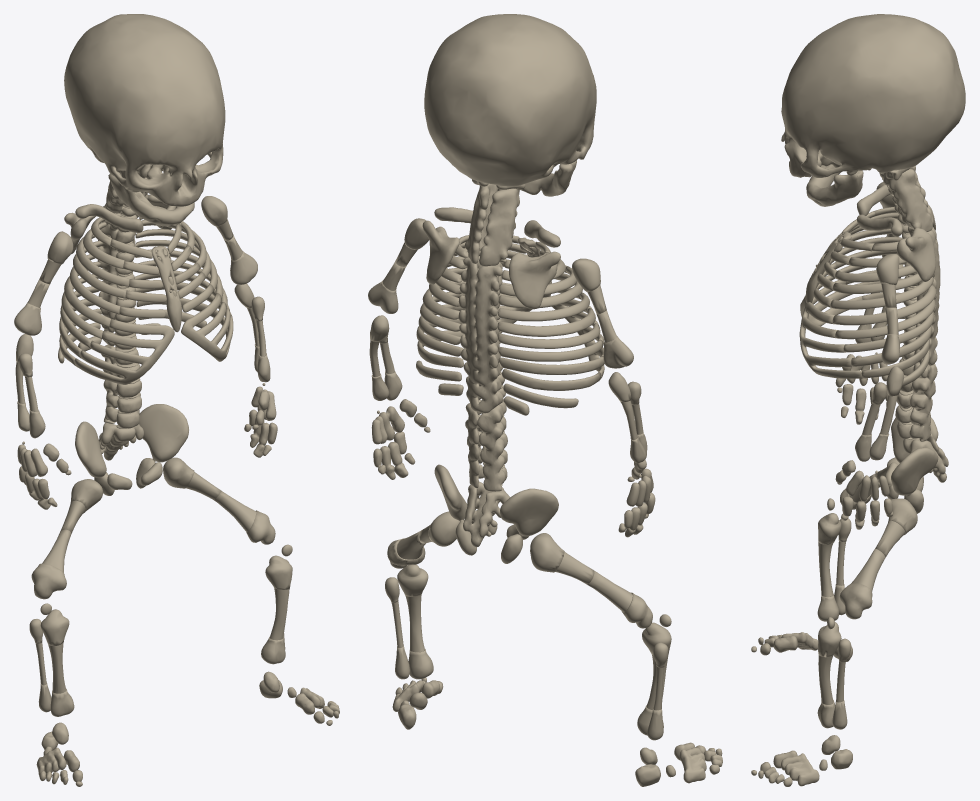
The model's file is pediatric_neonate_female.skeletal.LOD0.glb.
3 renders of one model, left to right at view 1: azimuth 30°, elevation 25°; view 2: azimuth 150°, elevation 25°; view 3: azimuth 270°, elevation 25°, orthographic. The views are drawn at different scales.
Parts seen in each view (by area): view 1: PEDIATRIC.NEONATE.FEMALE.SKELETAL.CARTILAGE_TRUNK, PEDIATRIC.NEONATE.FEMALE.SKELETAL.CARTILAGE_HEAD, PEDIATRIC.NEONATE.FEMALE.SKELETAL.CARTILAGE_LEGS, PEDIATRIC.NEONATE.FEMALE.SKELETAL.CARTILAGE_ARMS, PEDIATRIC.NEONATE.FEMALE.SKELETAL.FEMORA_LOWER_CORTICAL, PEDIATRIC.NEONATE.FEMALE.SKELETAL.TIBIAE_CORTICAL, PEDIATRIC.NEONATE.FEMALE.SKELETAL.FEMORA_UPPER_CORTICAL, PEDIATRIC.NEONATE.FEMALE.SKELETAL.HUMERI_LOWER_CORTICAL; view 2: PEDIATRIC.NEONATE.FEMALE.SKELETAL.CARTILAGE_TRUNK, PEDIATRIC.NEONATE.FEMALE.SKELETAL.CARTILAGE_HEAD, PEDIATRIC.NEONATE.FEMALE.SKELETAL.CARTILAGE_LEGS, PEDIATRIC.NEONATE.FEMALE.SKELETAL.CARTILAGE_ARMS, PEDIATRIC.NEONATE.FEMALE.SKELETAL.FEMORA_LOWER_CORTICAL, PEDIATRIC.NEONATE.FEMALE.SKELETAL.TIBIAE_CORTICAL, PEDIATRIC.NEONATE.FEMALE.SKELETAL.FEMORA_UPPER_CORTICAL, PEDIATRIC.NEONATE.FEMALE.SKELETAL.HUMERI_LOWER_CORTICAL, PEDIATRIC.NEONATE.FEMALE.SKELETAL.FIBULAE_CORTICAL, PEDIATRIC.NEONATE.FEMALE.SKELETAL.ULNAE_CORTICAL, PEDIATRIC.NEONATE.FEMALE.SKELETAL.HUMERI_UPPER_CORTICAL; view 3: PEDIATRIC.NEONATE.FEMALE.SKELETAL.CARTILAGE_HEAD, PEDIATRIC.NEONATE.FEMALE.SKELETAL.CARTILAGE_TRUNK, PEDIATRIC.NEONATE.FEMALE.SKELETAL.CARTILAGE_LEGS, PEDIATRIC.NEONATE.FEMALE.SKELETAL.CARTILAGE_ARMS, PEDIATRIC.NEONATE.FEMALE.SKELETAL.TIBIAE_CORTICAL, PEDIATRIC.NEONATE.FEMALE.SKELETAL.FEMORA_LOWER_CORTICAL, PEDIATRIC.NEONATE.FEMALE.SKELETAL.FEMORA_UPPER_CORTICAL, PEDIATRIC.NEONATE.FEMALE.SKELETAL.FIBULAE_CORTICAL, PEDIATRIC.NEONATE.FEMALE.SKELETAL.ULNAE_CORTICAL.
Boxes of the visible parts, x1,y1,x2,y2 form: PEDIATRIC.NEONATE.FEMALE.SKELETAL.CARTILAGE_TRUNK: (58,170,233,495); PEDIATRIC.NEONATE.FEMALE.SKELETAL.CARTILAGE_HEAD: (64,14,225,226); PEDIATRIC.NEONATE.FEMALE.SKELETAL.CARTILAGE_LEGS: (29,457,339,786); PEDIATRIC.NEONATE.FEMALE.SKELETAL.CARTILAGE_ARMS: (14,196,277,509); PEDIATRIC.NEONATE.FEMALE.SKELETAL.FEMORA_LOWER_CORTICAL: (42,491,256,572); PEDIATRIC.NEONATE.FEMALE.SKELETAL.TIBIAE_CORTICAL: (48,588,289,693); PEDIATRIC.NEONATE.FEMALE.SKELETAL.FEMORA_UPPER_CORTICAL: (60,472,221,533); PEDIATRIC.NEONATE.FEMALE.SKELETAL.HUMERI_LOWER_CORTICAL: (27,234,242,307); PEDIATRIC.NEONATE.FEMALE.SKELETAL.CARTILAGE_TRUNK: (416,179,604,563); PEDIATRIC.NEONATE.FEMALE.SKELETAL.CARTILAGE_HEAD: (424,14,596,196); PEDIATRIC.NEONATE.FEMALE.SKELETAL.CARTILAGE_LEGS: (385,511,722,786); PEDIATRIC.NEONATE.FEMALE.SKELETAL.CARTILAGE_ARMS: (368,218,655,537); PEDIATRIC.NEONATE.FEMALE.SKELETAL.FEMORA_LOWER_CORTICAL: (397,530,632,612); PEDIATRIC.NEONATE.FEMALE.SKELETAL.TIBIAE_CORTICAL: (405,594,668,710); PEDIATRIC.NEONATE.FEMALE.SKELETAL.FEMORA_UPPER_CORTICAL: (419,525,594,584); PEDIATRIC.NEONATE.FEMALE.SKELETAL.HUMERI_LOWER_CORTICAL: (382,261,617,342); PEDIATRIC.NEONATE.FEMALE.SKELETAL.FIBULAE_CORTICAL: (391,601,663,710); PEDIATRIC.NEONATE.FEMALE.SKELETAL.ULNAE_CORTICAL: (369,340,637,439); PEDIATRIC.NEONATE.FEMALE.SKELETAL.HUMERI_UPPER_CORTICAL: (395,242,606,314); PEDIATRIC.NEONATE.FEMALE.SKELETAL.CARTILAGE_HEAD: (781,14,965,206); PEDIATRIC.NEONATE.FEMALE.SKELETAL.CARTILAGE_TRUNK: (799,166,948,513); PEDIATRIC.NEONATE.FEMALE.SKELETAL.CARTILAGE_LEGS: (751,457,917,786); PEDIATRIC.NEONATE.FEMALE.SKELETAL.CARTILAGE_ARMS: (835,182,903,529); PEDIATRIC.NEONATE.FEMALE.SKELETAL.TIBIAE_CORTICAL: (818,542,833,704); PEDIATRIC.NEONATE.FEMALE.SKELETAL.FEMORA_LOWER_CORTICAL: (849,473,885,591); PEDIATRIC.NEONATE.FEMALE.SKELETAL.FEMORA_UPPER_CORTICAL: (874,467,904,556); PEDIATRIC.NEONATE.FEMALE.SKELETAL.FIBULAE_CORTICAL: (836,541,846,702); PEDIATRIC.NEONATE.FEMALE.SKELETAL.ULNAE_CORTICAL: (880,306,897,434).
Bounding box in the file's own units: 0.2147 × 0.4767 × 0.1333.
